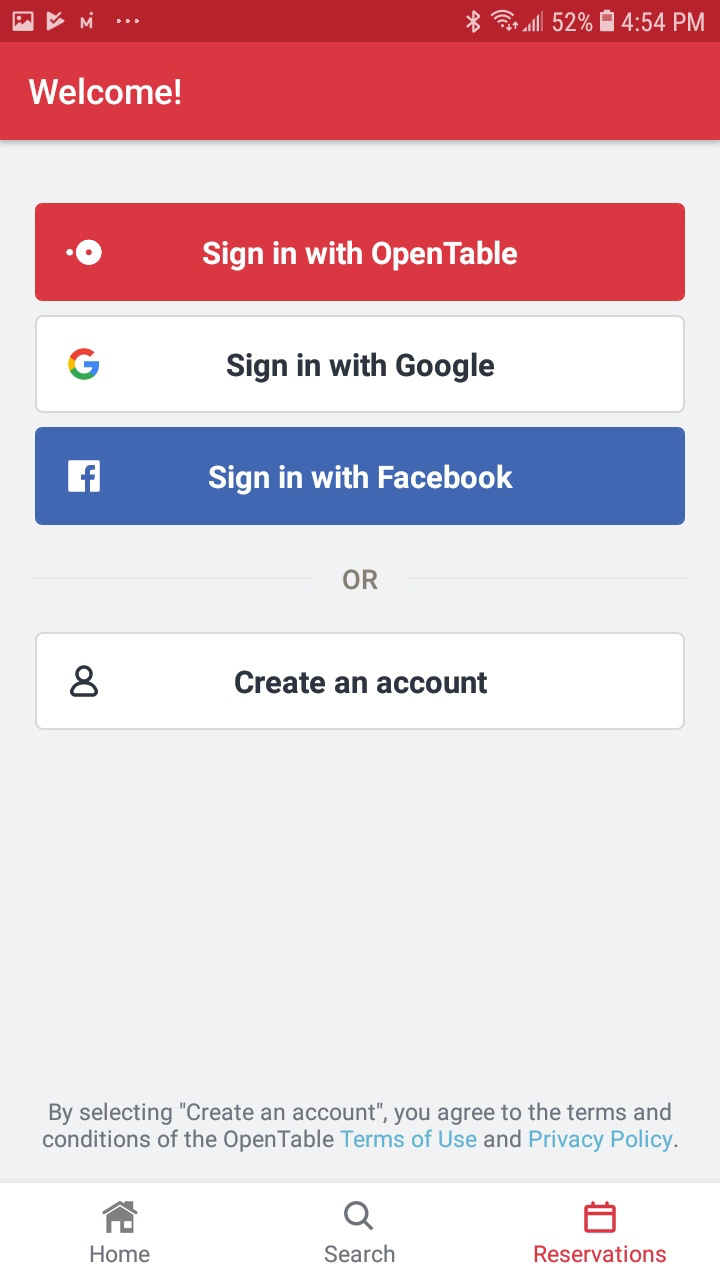Icon: (584, 1200, 617, 1233), (344, 1200, 374, 1231)
Image: (103, 1200, 139, 1233)
Text: (42, 1102, 678, 1153), (29, 78, 182, 107), (534, 1244, 667, 1263), (325, 1243, 396, 1263), (91, 1245, 151, 1263), (342, 569, 379, 591)
TextButton: (36, 204, 686, 303), (36, 315, 686, 414), (36, 427, 686, 526), (36, 632, 686, 731)
UpperTaskBar: (1, 1, 720, 43)
